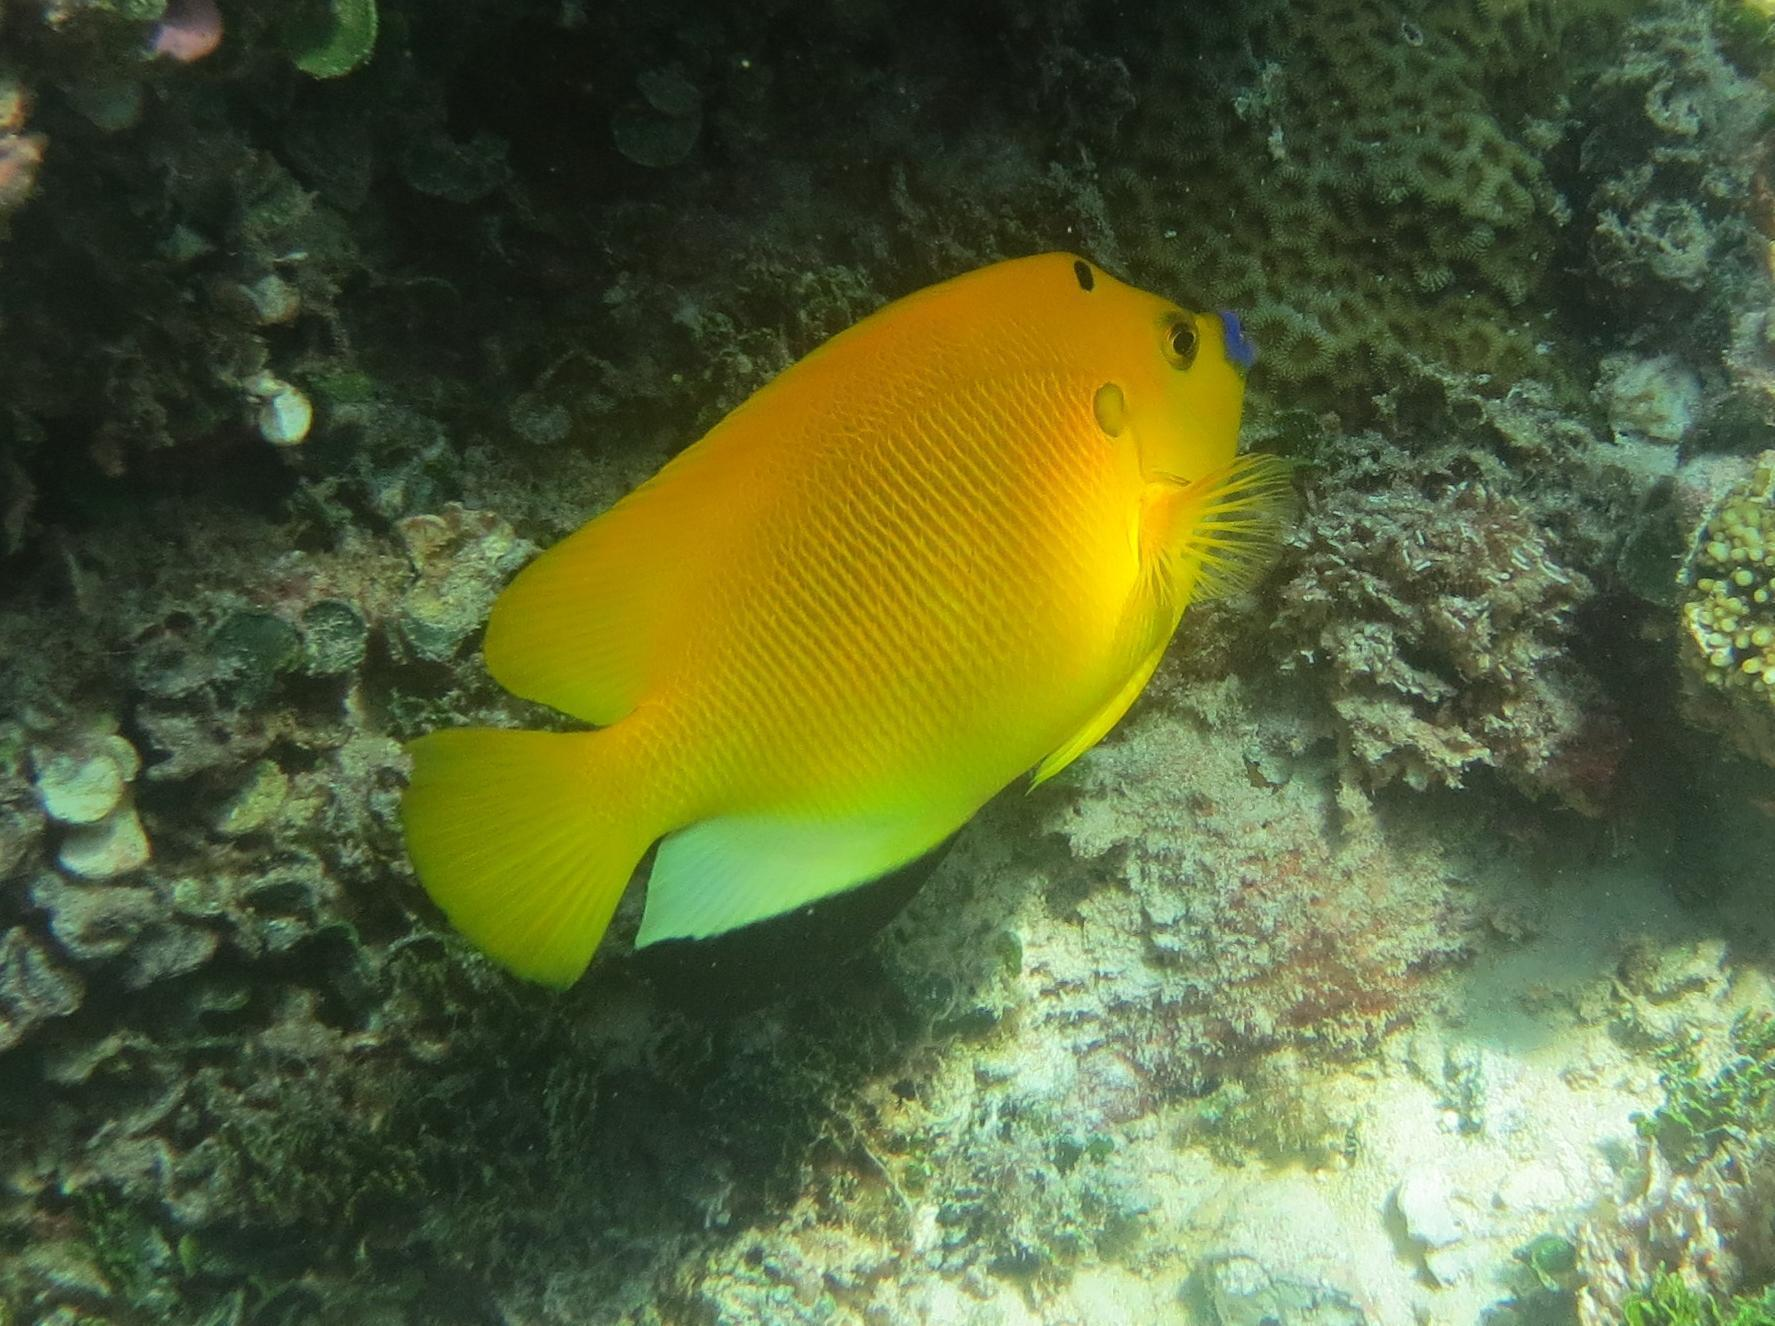Fish: (356, 150, 1321, 1025)
